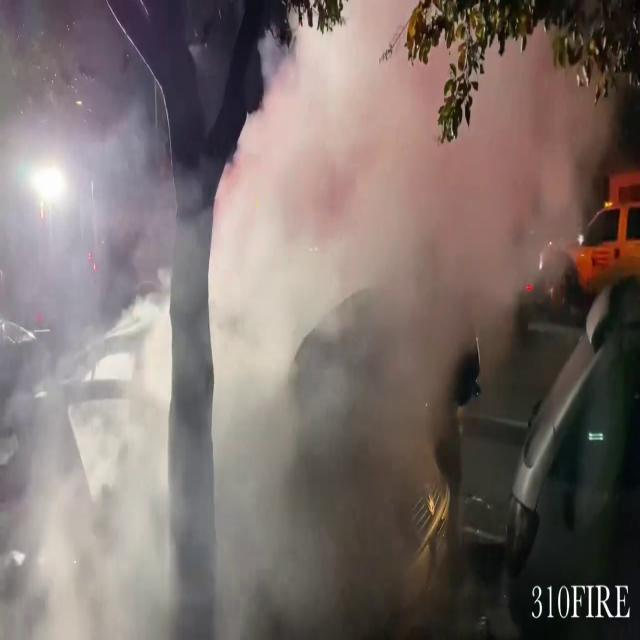Smoke: (1, 1, 580, 638)
